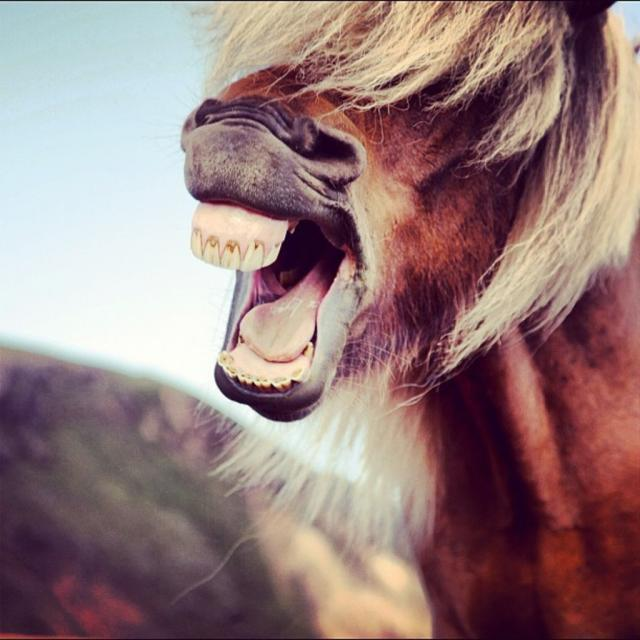Horse: (180, 1, 639, 639)
